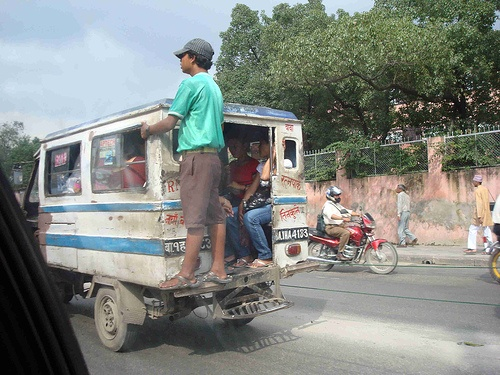head: (180, 38, 215, 74), (226, 132, 252, 163), (256, 131, 276, 158), (322, 186, 345, 207), (470, 173, 485, 190), (394, 184, 406, 196)
person: (141, 40, 228, 289), (238, 131, 271, 266), (221, 128, 258, 208), (322, 186, 354, 259), (463, 172, 491, 252), (395, 183, 416, 244)
